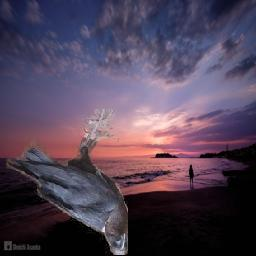Crow: (6, 109, 128, 255)
